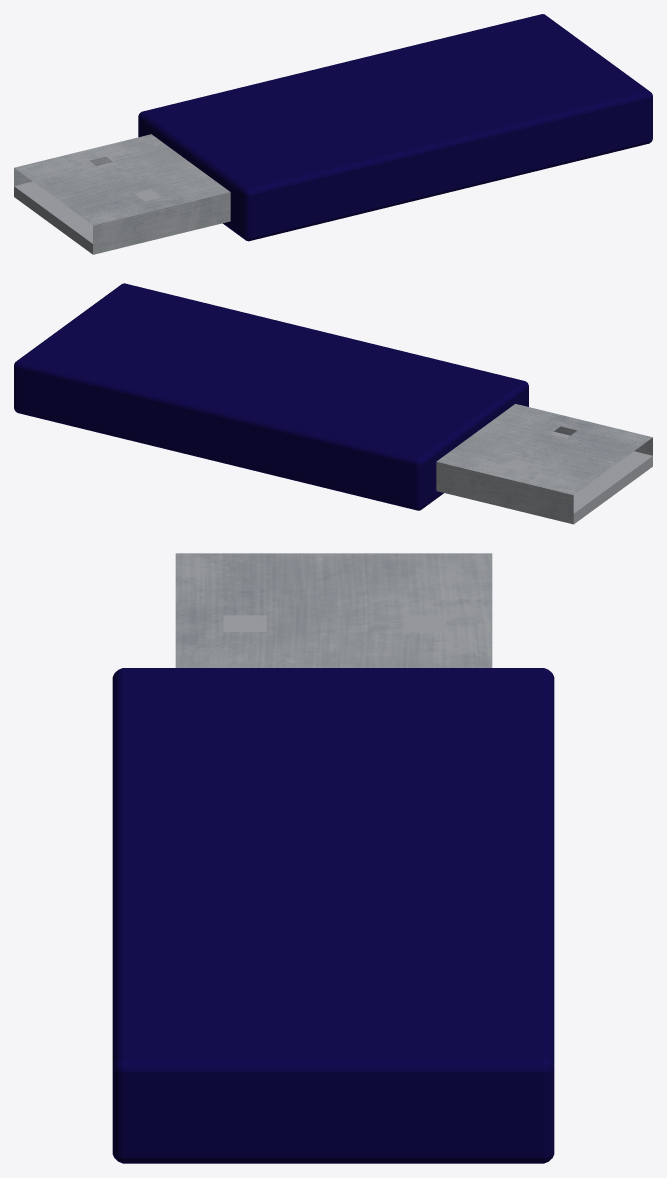
The model's file is Usb.fbx.
3 views of the same model, one above another, from view 1: azimuth 30°, elevation 25°; view 2: azimuth 150°, elevation 25°; view 3: azimuth 270°, elevation 25° (orthographic). The views are drawn at different scales.
Visible parts, largest first — view 1: Cube.001; view 2: Cube.001; view 3: Cube.001.
Boxes of the visible parts, x1,y1,x2,y2 form: Cube.001: [14, 14, 652, 254]; Cube.001: [14, 283, 652, 524]; Cube.001: [112, 553, 554, 1163].
Bounding box in the file's own units: 400 × 36.66 × 140.
Materials: 3 (2 with a texture image).
